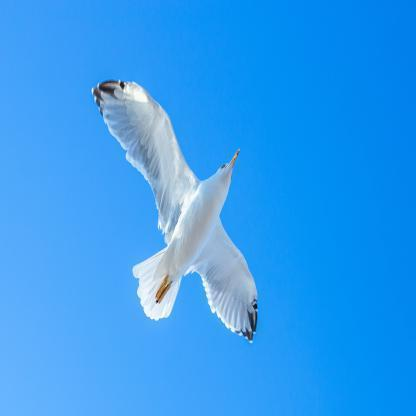bird: (94, 79, 261, 343)
